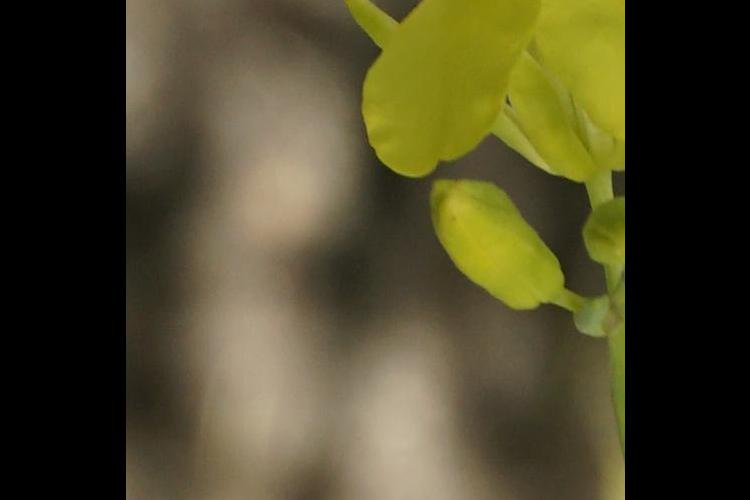bud: (415, 179, 574, 314)
